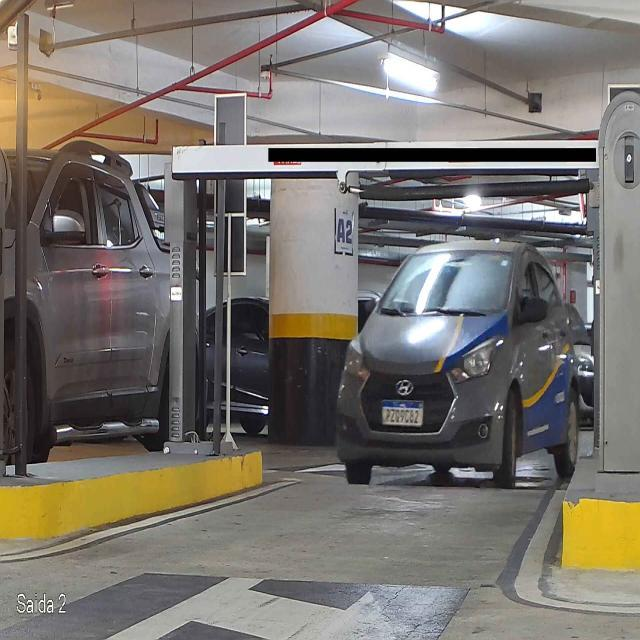mercosul_plate: (379, 399, 426, 428)
